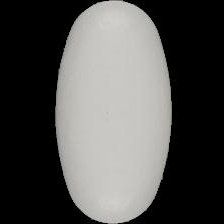43063-295: (0, 0, 224, 224)
